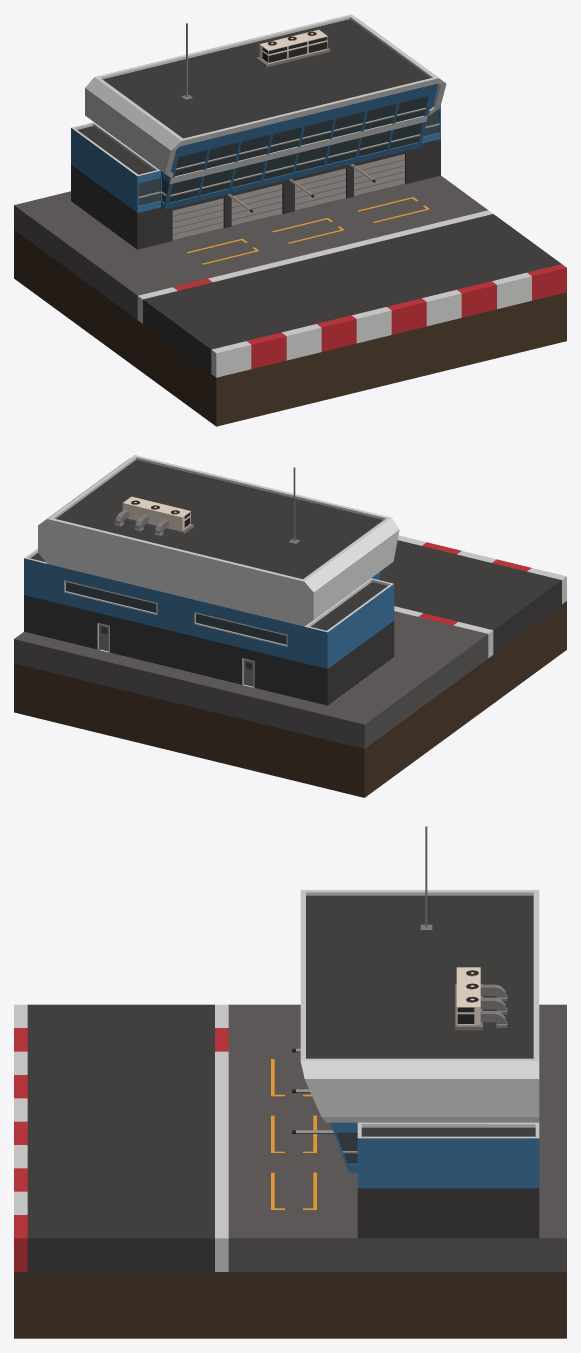
File: racing_tile-race-track-pit-lane-start.fbx
The picture shows the model from 3 angles, top to bottom: view 1: azimuth 30°, elevation 25°; view 2: azimuth 150°, elevation 25°; view 3: azimuth 270°, elevation 25°; orthographic projection. The views are drawn at different scales.
Visible parts, largest first — view 1: racing_tile_race_track_pit_lane_start; view 2: racing_tile_race_track_pit_lane_start; view 3: racing_tile_race_track_pit_lane_start.
Boxes of the visible parts, bbox=[...] form: racing_tile_race_track_pit_lane_start: bbox=[14, 14, 566, 426]; racing_tile_race_track_pit_lane_start: bbox=[14, 455, 566, 797]; racing_tile_race_track_pit_lane_start: bbox=[14, 826, 566, 1338].
Size of the model in its own units: 200 by 143 by 200.
